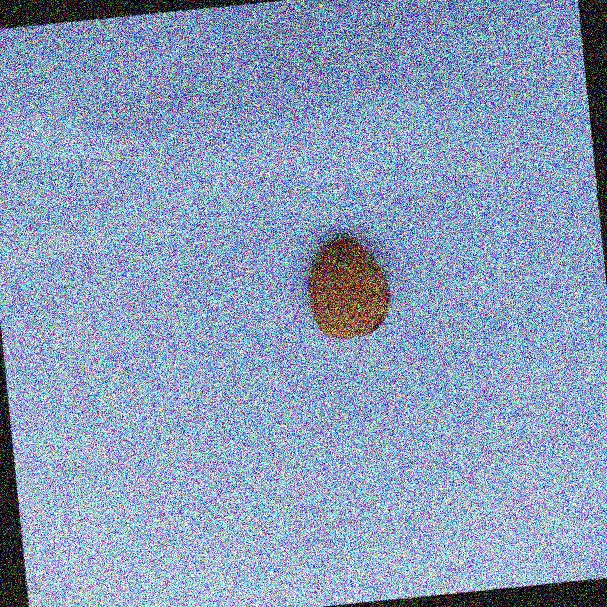grade1: (294, 225, 401, 349)
